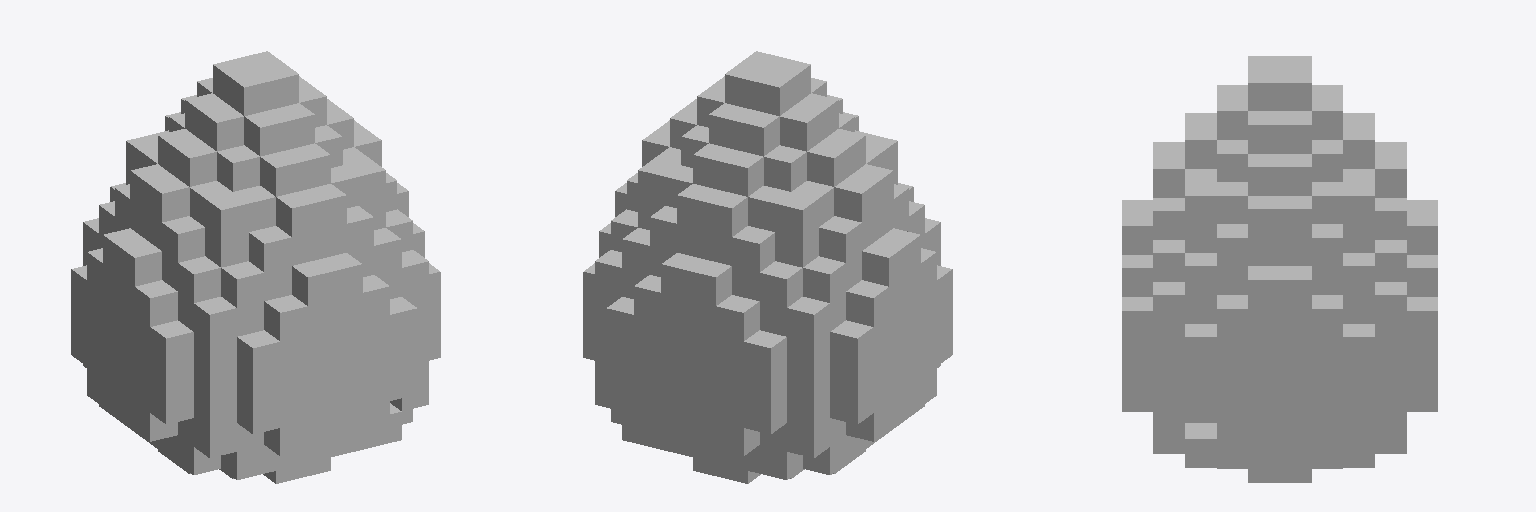
The model's file is Egg.obj.
3 views of the same model, side by side, from view 1: azimuth 30°, elevation 25°; view 2: azimuth 150°, elevation 25°; view 3: azimuth 270°, elevation 25° (orthographic).
Visible parts, largest first — view 1: object 1; view 2: object 1; view 3: object 1.
Part boxes in pixels (x1,y1,x2,y2): object 1: (71,51,440,483); object 1: (583,51,952,483); object 1: (1122,56,1437,482).
Size of the model in its own units: 1 by 1.3 by 1.